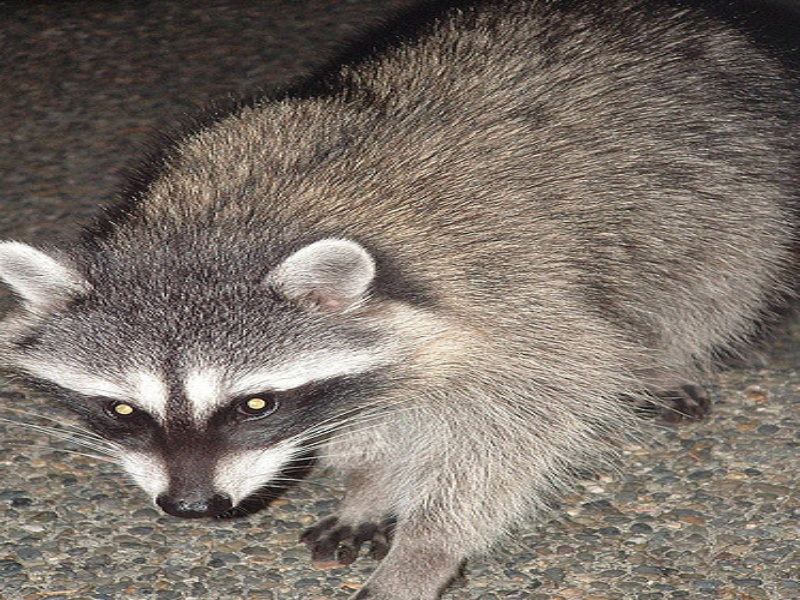raccoon: (15, 25, 783, 573)
